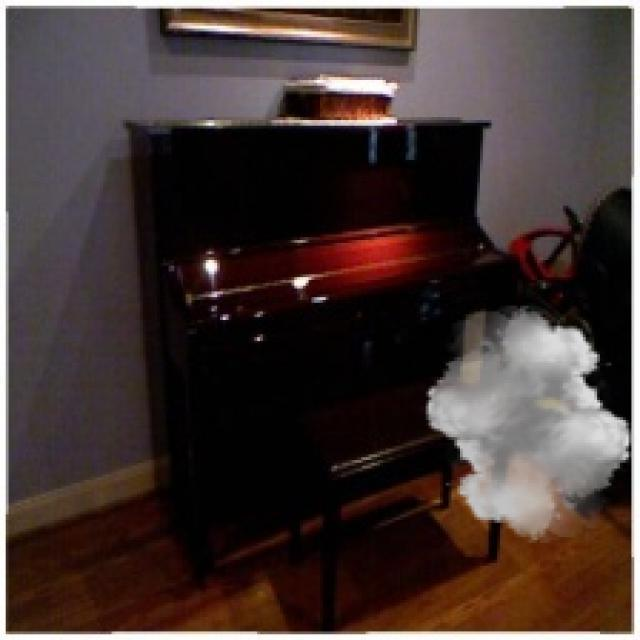Smoke: (417, 306, 637, 546)
